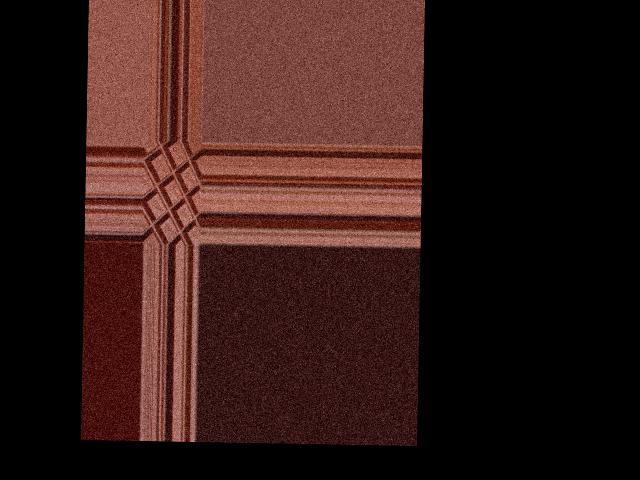chocolate: (141, 140, 200, 242)
